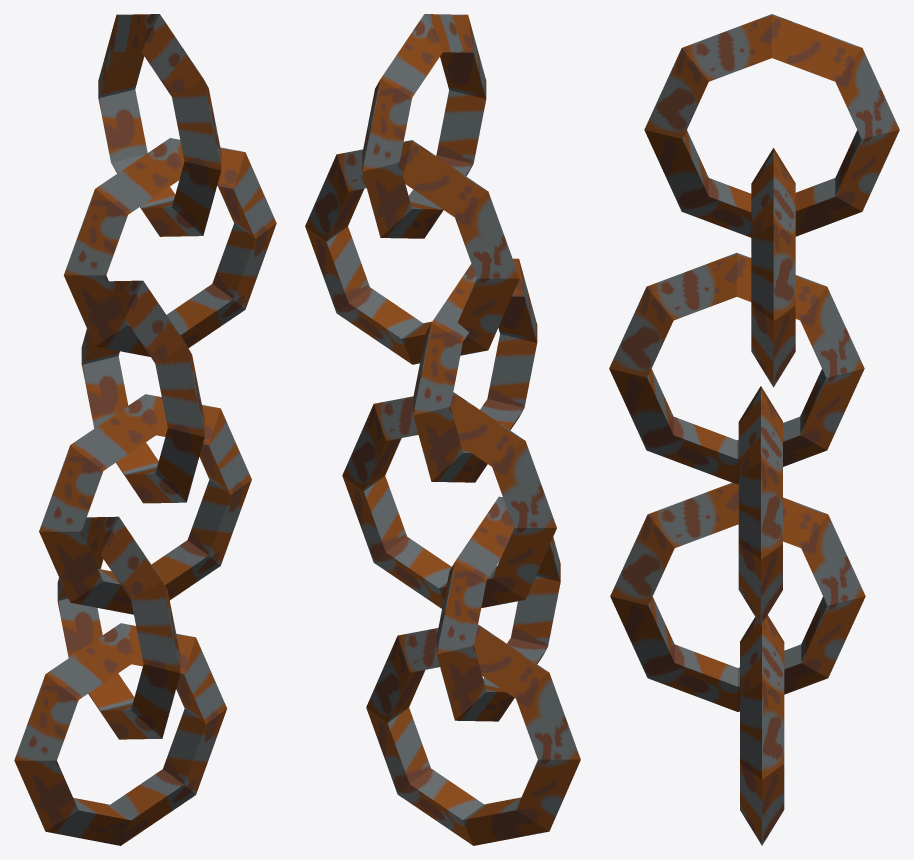
Rendered from SM_cenario_corrente.glb.
3 views of the same model, side by side, from view 1: azimuth 30°, elevation 25°; view 2: azimuth 150°, elevation 25°; view 3: azimuth 270°, elevation 25° (orthographic). The views are drawn at different scales.
Parts seen in each view (by area): view 1: Toróide.069, Toróide.093, Toróide.021, Toróide.019, Toróide.067, Toróide.091, Toróide.108, Toróide.044, Toróide.132, Toróide.079, Toróide.007, Toróide.055 (+45 smaller); view 2: Toróide.070, Toróide.022, Toróide.094, Toróide.068, Toróide.142, Toróide.035, Toróide.118, Toróide.020, Toróide.092, Toróide.008, Toróide.080, Toróide.056 (+43 smaller); view 3: Toróide.037, Toróide.113, Toróide.040, Toróide.137, Toróide.117, Toróide.107, Toróide.131, Toróide.034, Toróide.043, Toróide.141, Toróide.031, Toróide.127 (+34 smaller).
Boxes of the visible parts, x1,y1,x2,y2 form: Toróide.069: [64, 189, 127, 275]; Toróide.093: [39, 445, 103, 531]; Toróide.021: [14, 674, 78, 760]; Toróide.019: [46, 623, 131, 699]; Toróide.067: [95, 138, 180, 214]; Toróide.091: [70, 394, 155, 470]; Toróide.108: [155, 345, 204, 436]; Toróide.044: [172, 79, 221, 170]; Toróide.132: [131, 581, 180, 672]; Toróide.079: [39, 531, 103, 602]; Toróide.007: [14, 760, 78, 831]; Toróide.055: [64, 275, 127, 345]; Toróide.070: [455, 191, 519, 278]; Toróide.022: [516, 673, 580, 759]; Toróide.094: [492, 441, 556, 527]; Toróide.068: [403, 140, 487, 217]; Toróide.142: [436, 562, 486, 654]; Toróide.035: [362, 79, 411, 171]; Toróide.118: [413, 323, 462, 415]; Toróide.020: [474, 624, 549, 698]; Toróide.092: [450, 392, 525, 466]; Toróide.008: [516, 759, 580, 831]; Toróide.080: [492, 528, 556, 599]; Toróide.056: [457, 278, 519, 350]; Toróide.037: [772, 14, 861, 81]; Toróide.113: [647, 253, 736, 320]; Toróide.040: [682, 14, 771, 81]; Toróide.137: [648, 482, 737, 547]; Toróide.117: [800, 287, 864, 377]; Toróide.107: [609, 287, 673, 377]; Toróide.131: [610, 514, 674, 605]; Toróide.034: [835, 48, 899, 138]; Toróide.043: [644, 48, 708, 138]; Toróide.141: [801, 514, 865, 605]; Toróide.031: [835, 130, 899, 211]; Toróide.127: [801, 596, 865, 677].
Bounding box in the file's own units: 1.05 × 3.07 × 0.951.
1 material, 1 textured.
